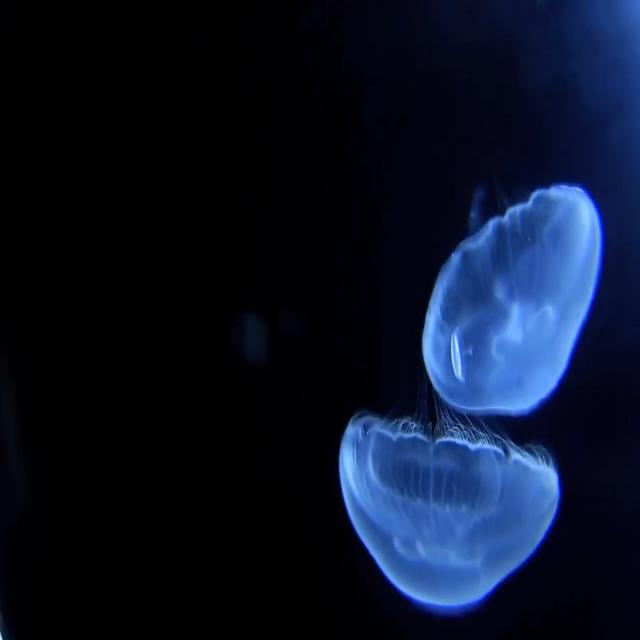Moon-jellyfish: (338, 408, 563, 617), (420, 185, 605, 420)
